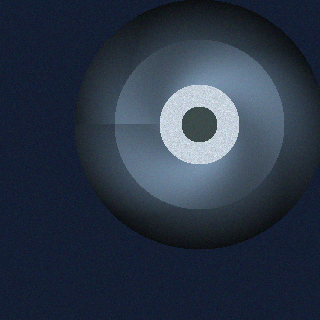cyclone_body: (110, 35, 288, 213)
cyclone_eye: (179, 104, 219, 144)
